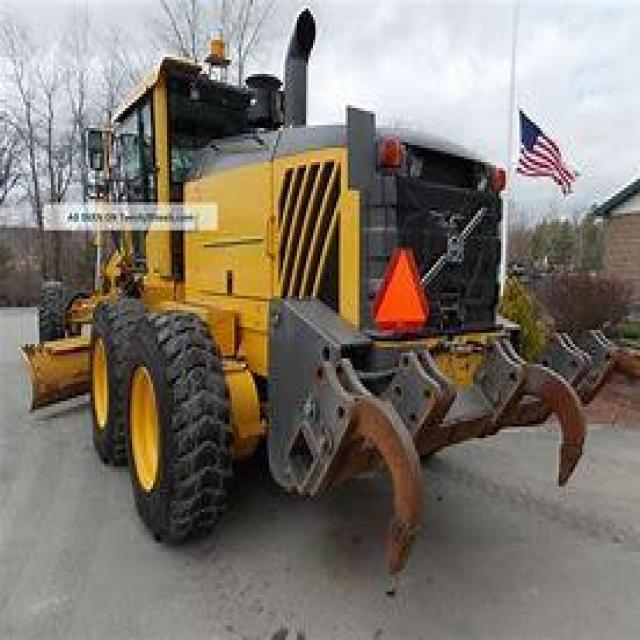Grader: (19, 34, 556, 549)
